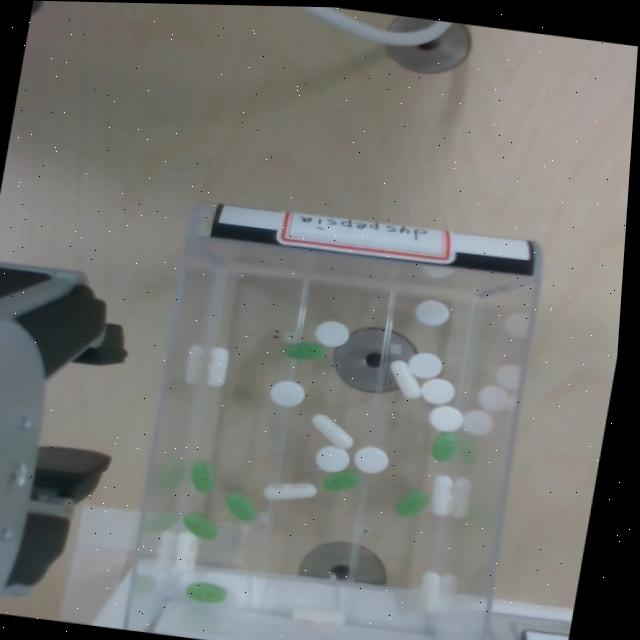magmil_tab: (353, 445, 388, 472), (420, 377, 454, 404), (414, 299, 449, 325), (314, 445, 349, 471), (407, 352, 441, 378), (428, 405, 462, 431), (269, 380, 303, 406), (314, 320, 348, 346)
medilacsenteric_tab: (311, 413, 352, 448), (390, 360, 419, 398), (173, 530, 197, 570), (291, 607, 344, 625), (419, 571, 442, 611), (263, 482, 316, 499), (430, 475, 452, 515), (206, 346, 228, 386)
nexilen_tab: (225, 491, 256, 521), (184, 581, 226, 603), (182, 514, 217, 539), (395, 490, 428, 516), (322, 469, 360, 490), (285, 341, 324, 359), (431, 432, 456, 460), (190, 461, 213, 491)
